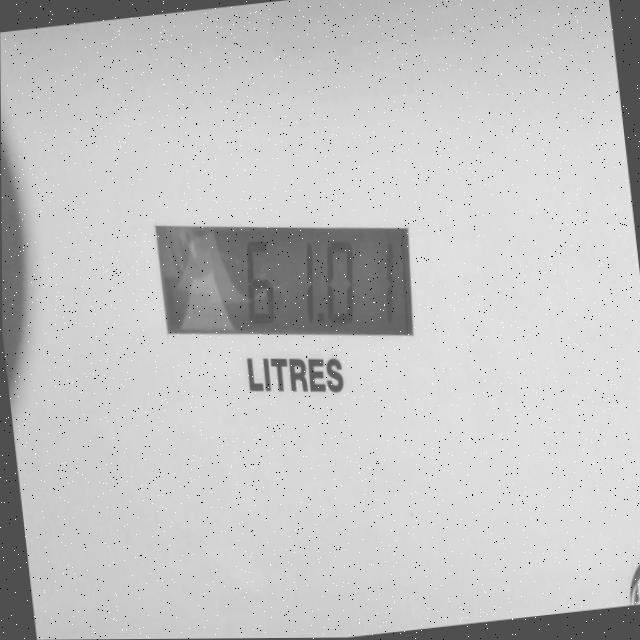.: (314, 306, 327, 335)
0: (316, 228, 363, 342)
1: (368, 233, 408, 329), (286, 236, 319, 334)
6: (235, 232, 281, 329)
